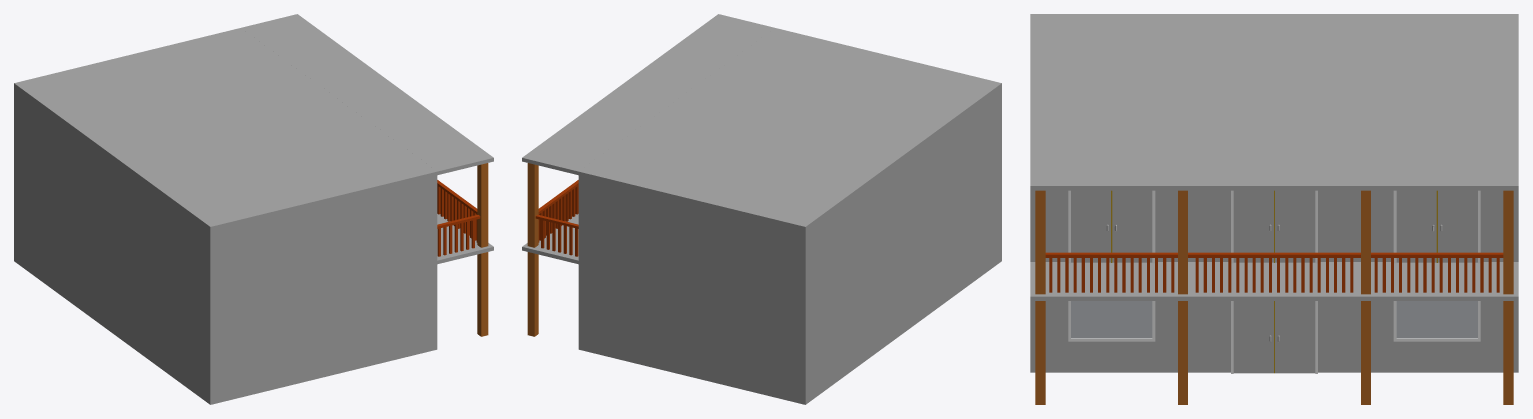
File: Building_3.fbx
The picture shows the model from 3 angles, left to right: view 1: azimuth 30°, elevation 25°; view 2: azimuth 150°, elevation 25°; view 3: azimuth 270°, elevation 25°; orthographic projection. The views are drawn at different scales.
Visible parts, largest first — view 1: polySurface41; view 2: polySurface41; view 3: polySurface41.
Part boxes in pixels (left/top/right/bottom): polySurface41: left=14, top=14, right=493, bottom=404; polySurface41: left=522, top=14, right=1001, bottom=404; polySurface41: left=1030, top=14, right=1518, bottom=404.
Bounding box in the file's own units: 12.5 × 7.5 × 15.
